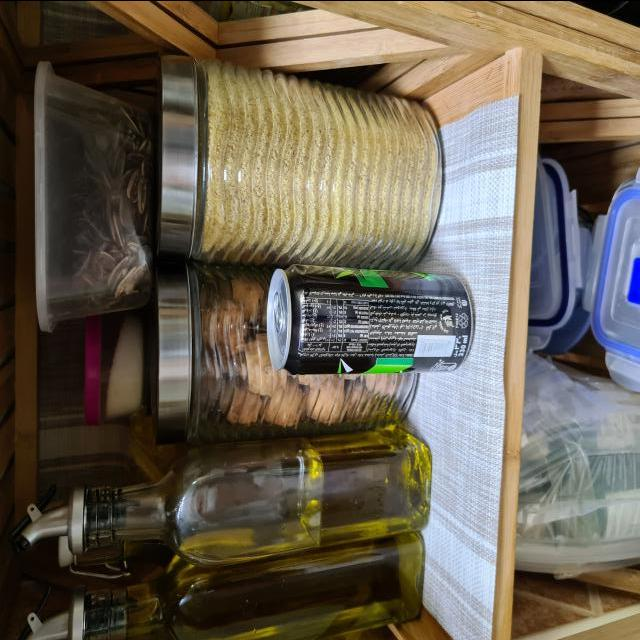can: (264, 264, 474, 376)
